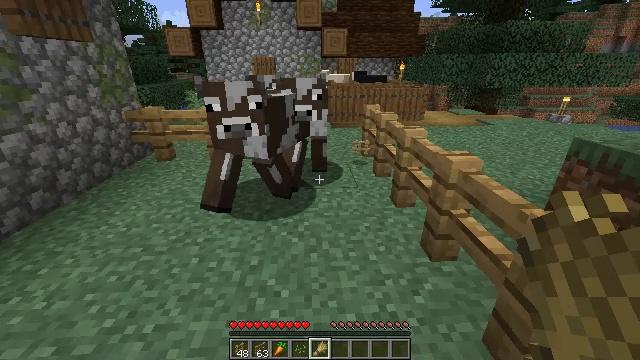cow: (203, 81, 296, 211), (273, 76, 328, 181)
sheep: (352, 70, 388, 83), (319, 70, 350, 83)
